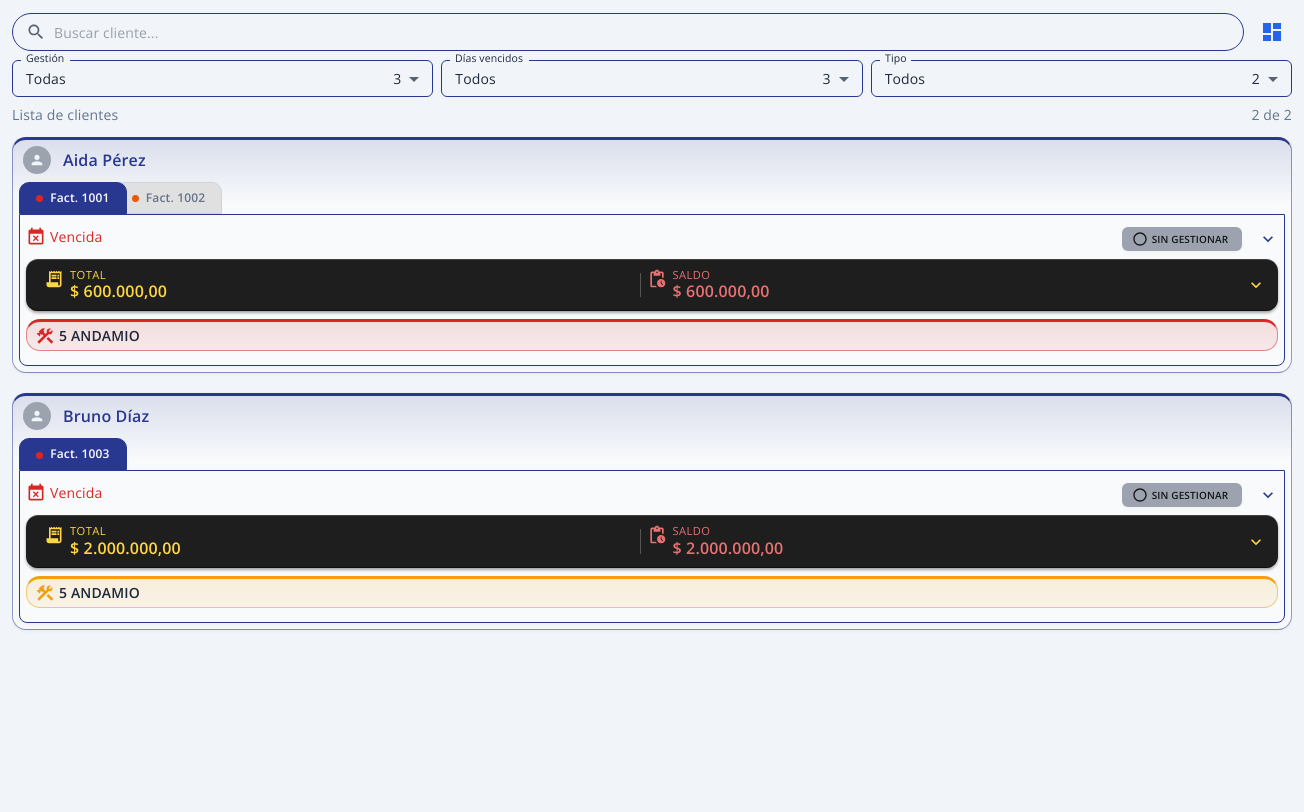
Test: SeguimientoClientes — los filtros › por días queda solo el cliente que tiene una factura con esos días
Check: the text "2 de 2" is shown, box top-left (1251, 105), bottom-right (1292, 125)
Click the dropdown named "Días vencidos".
click(476, 78)  # box top-left (455, 68), bottom-right (831, 88)
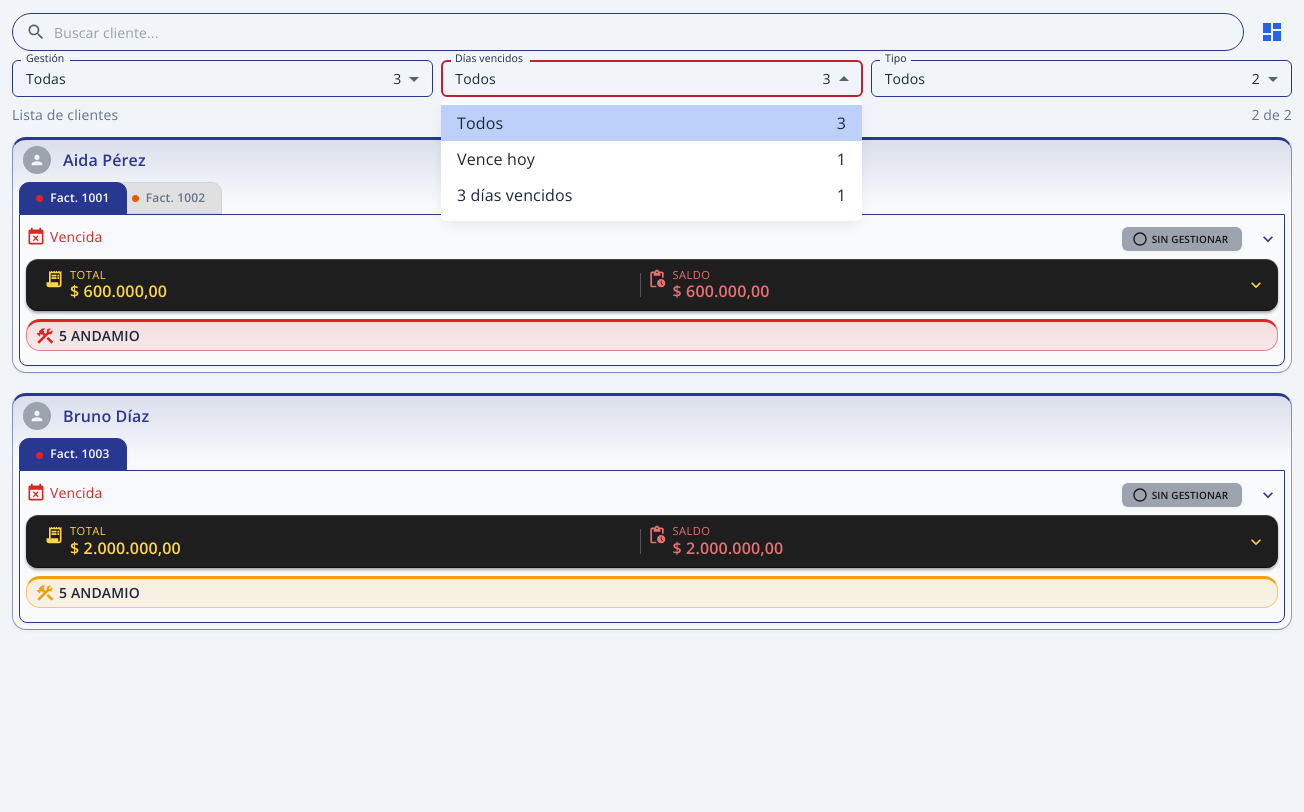
Click the text "Vence hoy".
click(496, 159)  # box top-left (457, 147), bottom-right (535, 171)
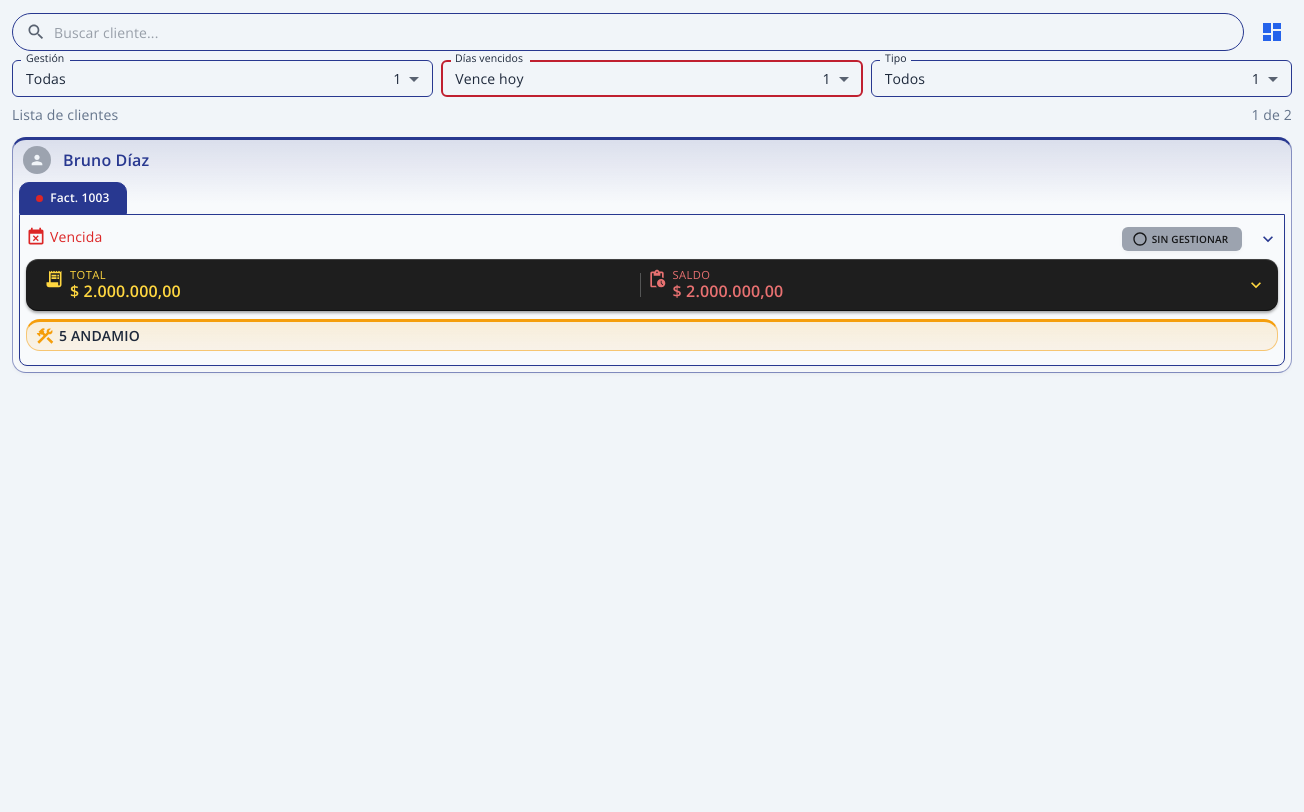
Check: the text "Bruno Díaz" is shown, box top-left (63, 150), bottom-right (149, 170)
Check: the text "1 de 2" is shown, box top-left (1251, 105), bottom-right (1292, 125)
Check: the text "Aida Pérez" is gone
